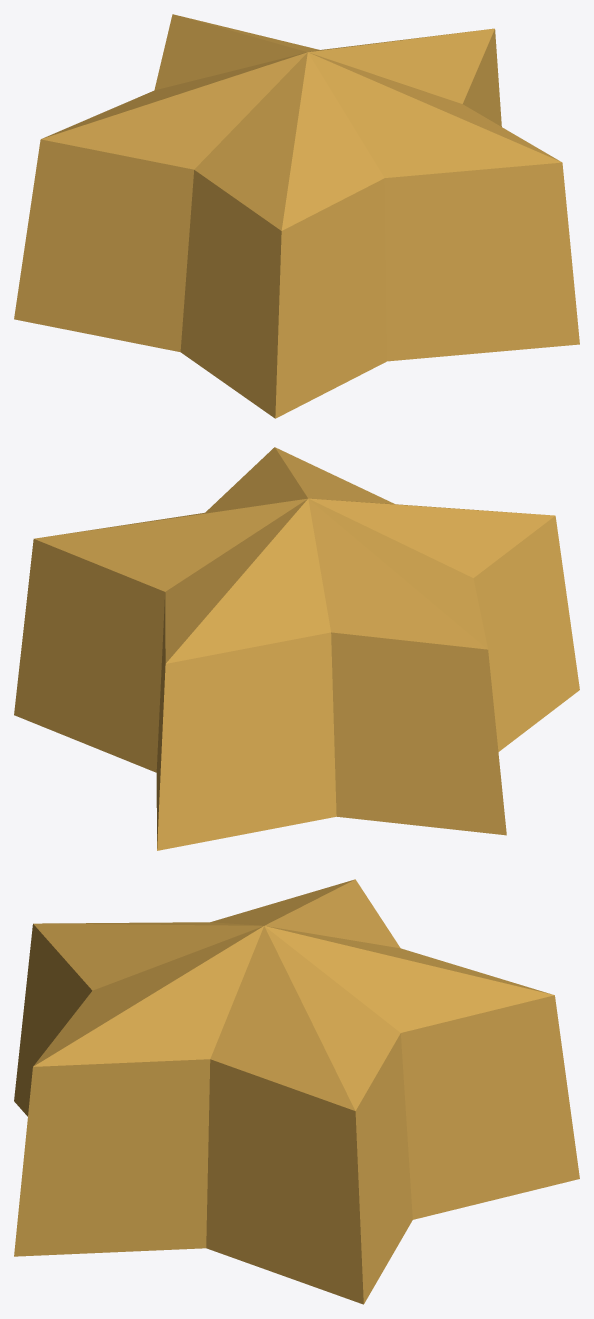
The model's file is SM_UI_Star_02.glb.
3 views of the same model, one above another, from view 1: azimuth 30°, elevation 25°; view 2: azimuth 150°, elevation 25°; view 3: azimuth 270°, elevation 25° (orthographic). The views are drawn at different scales.
Visible parts, largest first — view 1: SM_UI_Star_02; view 2: SM_UI_Star_02; view 3: SM_UI_Star_02.
Boxes of the visible parts, x1,y1,x2,y2 form: SM_UI_Star_02: [14, 14, 579, 418]; SM_UI_Star_02: [14, 447, 579, 850]; SM_UI_Star_02: [14, 879, 579, 1304].
Size of the model in its own units: 1.61 by 0.7573 by 1.54.
1 material, 1 textured.
